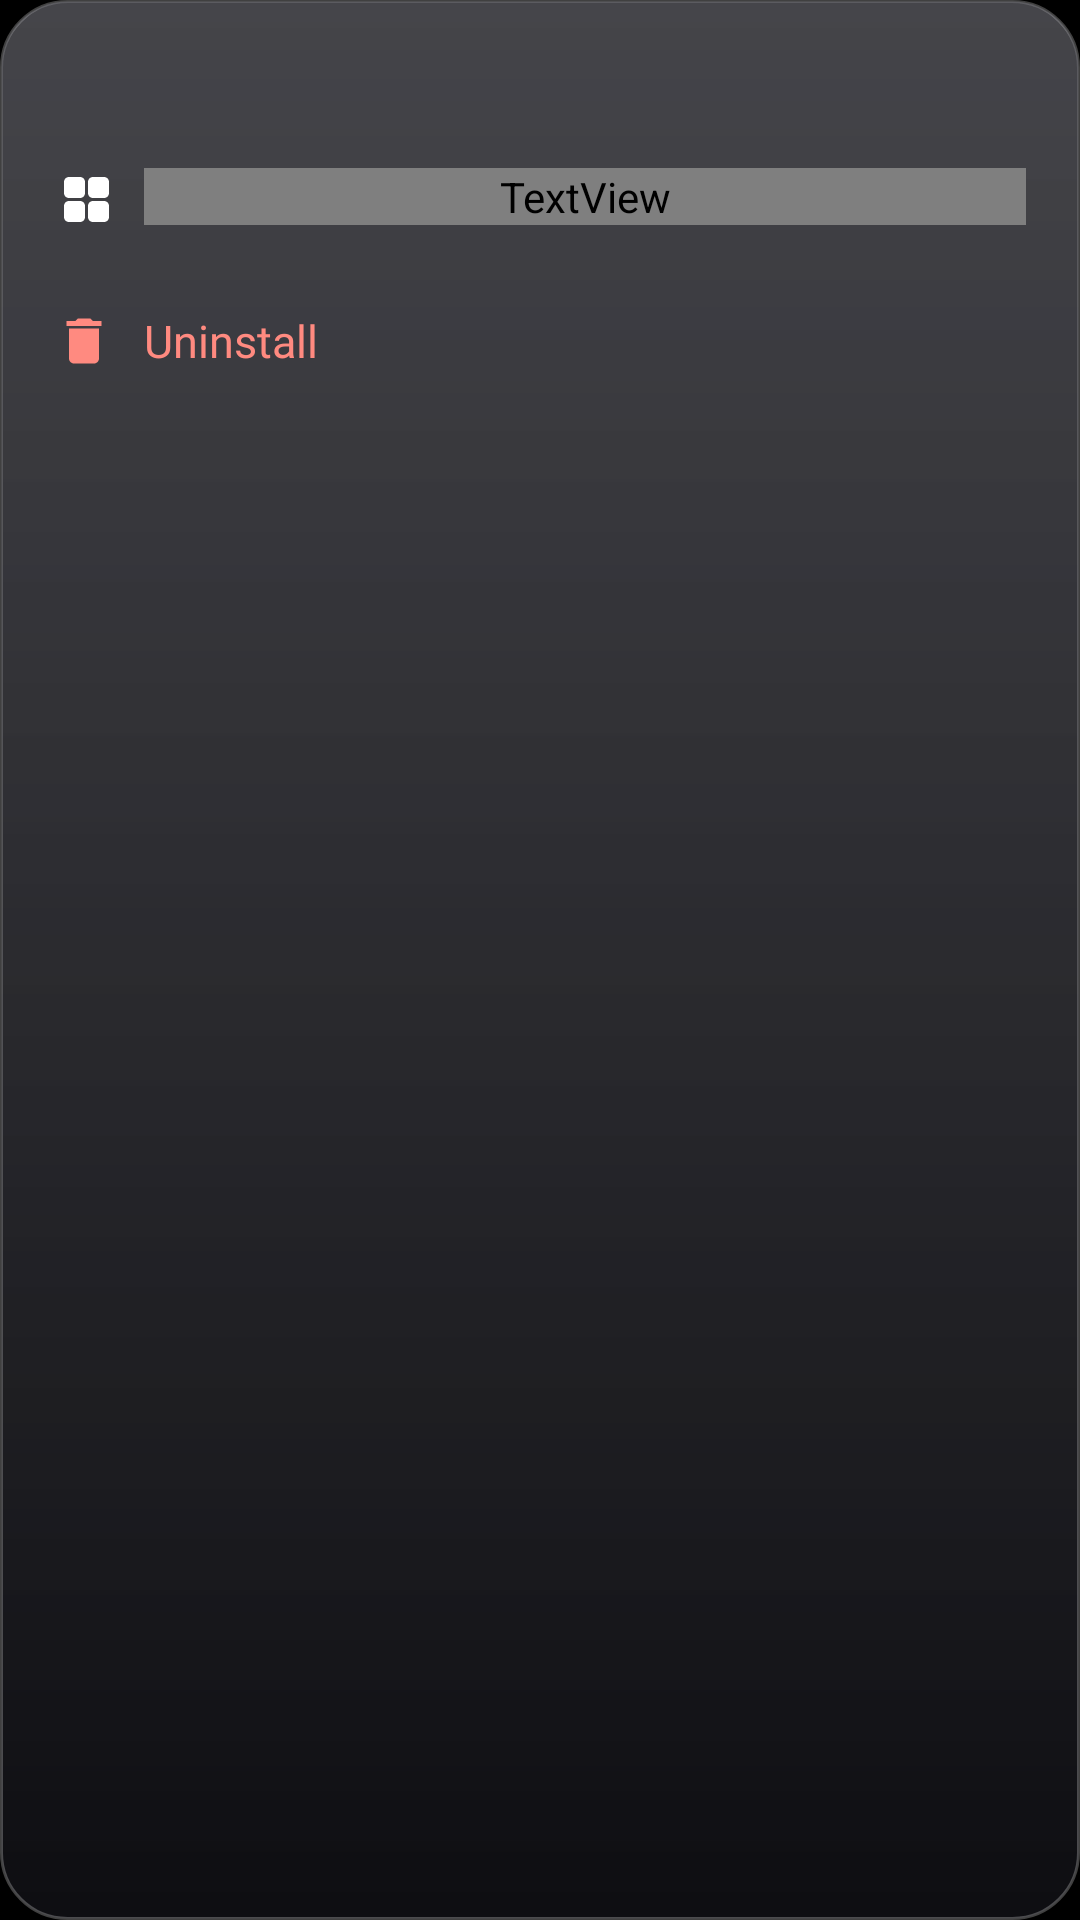

Icon bounding boxes for this 1080*1920 phone screenshot, format {"x1": x1, "y1": y1, "x2": x2, "y2": y2}:
trash: {"x1": 66, "y1": 318, "x2": 102, "y2": 364}
